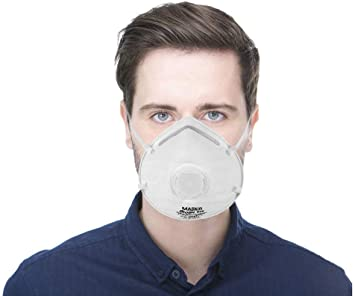n95: (134, 121, 244, 222)
